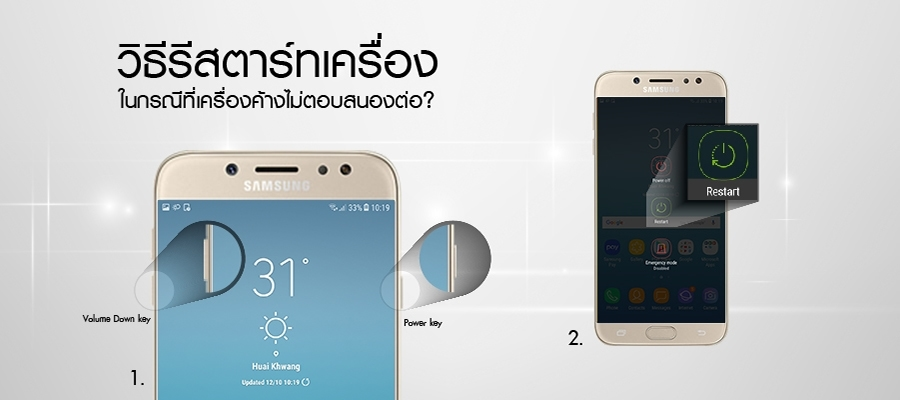Phone: (593, 68, 730, 348)
